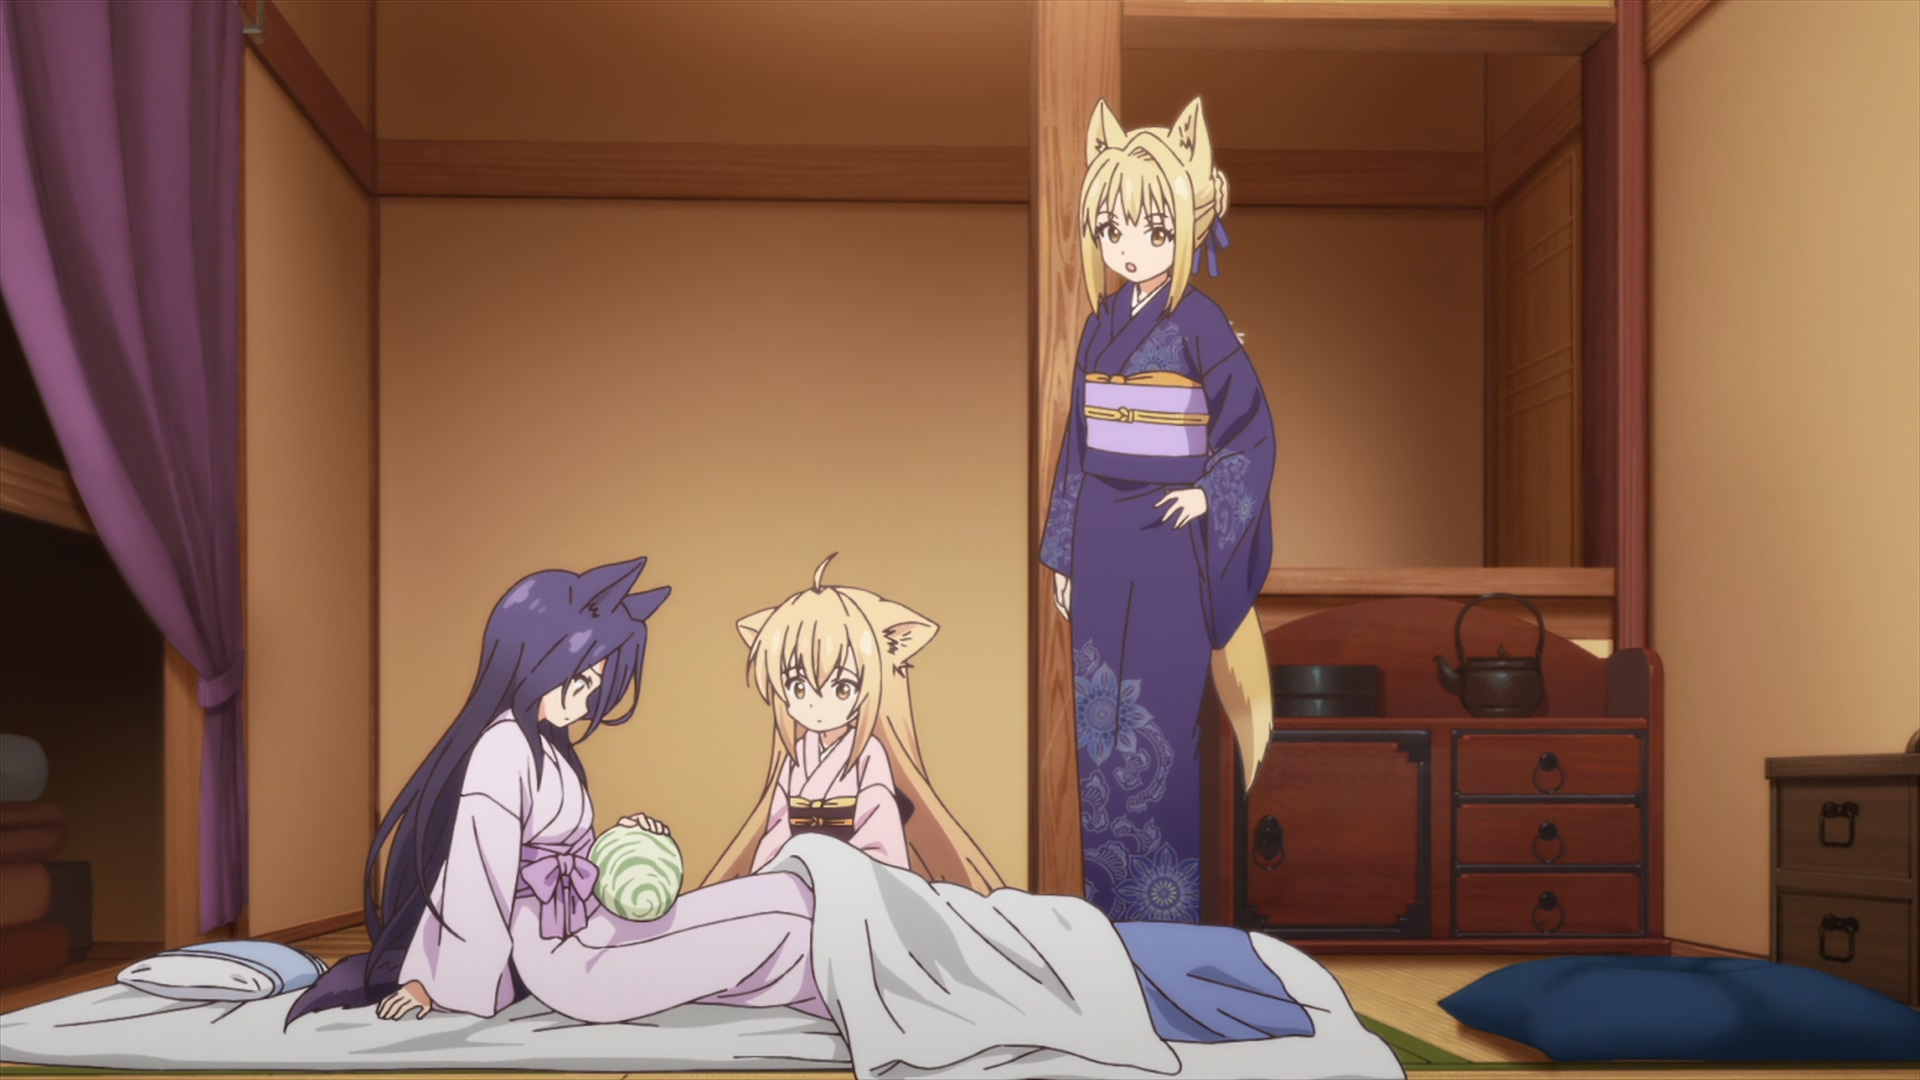柚: (700, 553, 1006, 897)
桐: (1036, 95, 1278, 920)
皋: (284, 555, 833, 1034)
